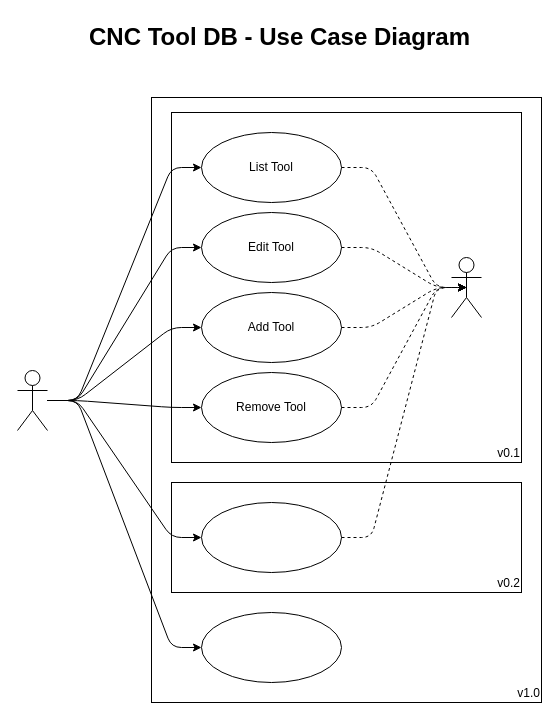
The diagram is 559 pixels wide and 720 high, and some of its shapes have lost their labels. The shapes that lost their labels are listed below. From the top down, each one's centre as x and y in pixels, then its label:
pixel 466 287: <<System>> Database
pixel 32 400: User
pixel 271 537: Create List
pixel 271 647: Export List
